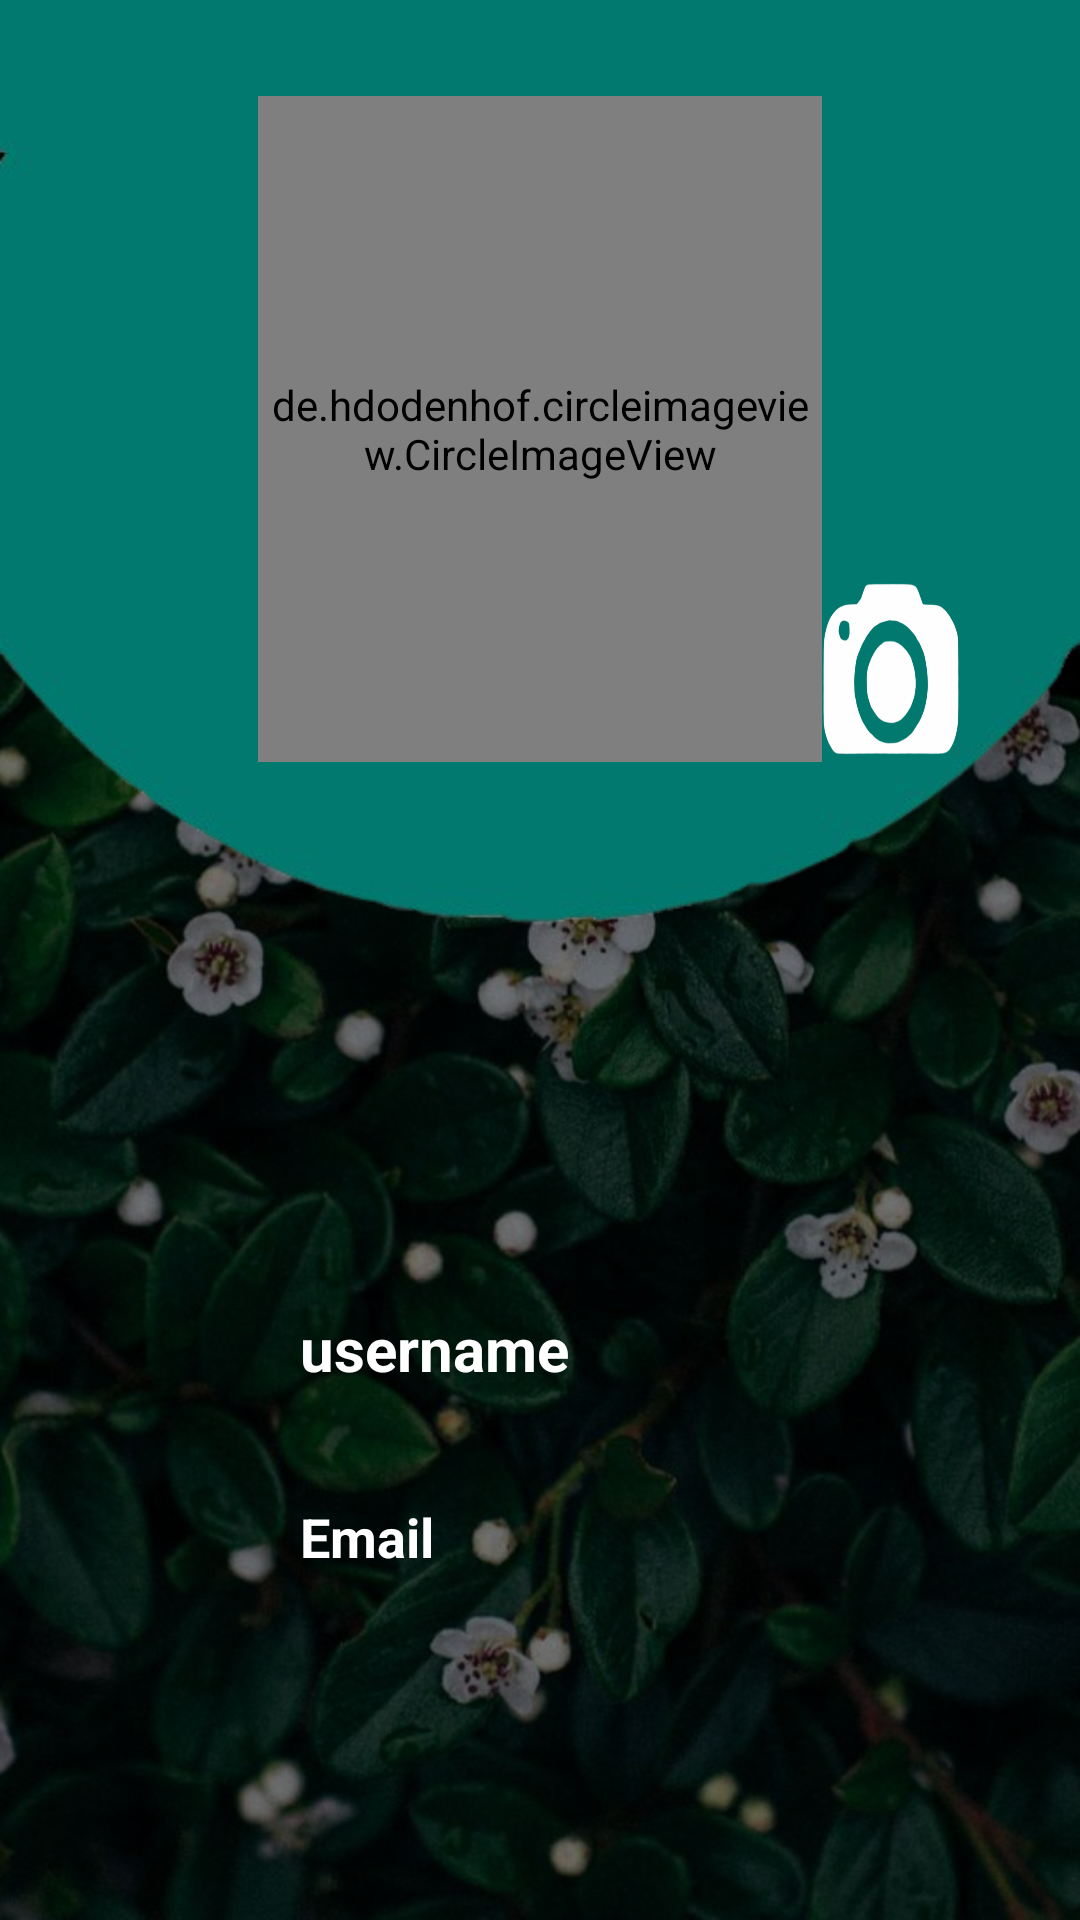

Where to tap for icons on this 1080 × 1920 app screen, as (x=x, y=y):
camera: (x=891, y=669)
